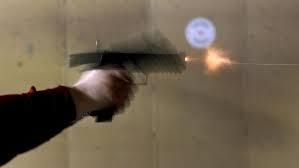gun: (68, 46, 195, 85)
